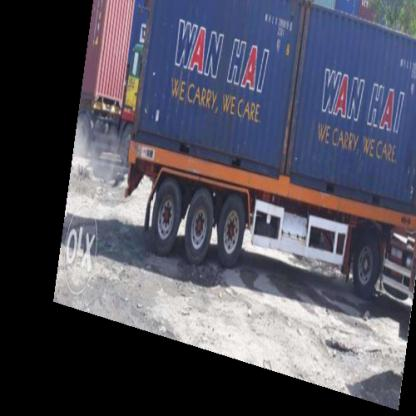Damage: (280, 0, 313, 170)
